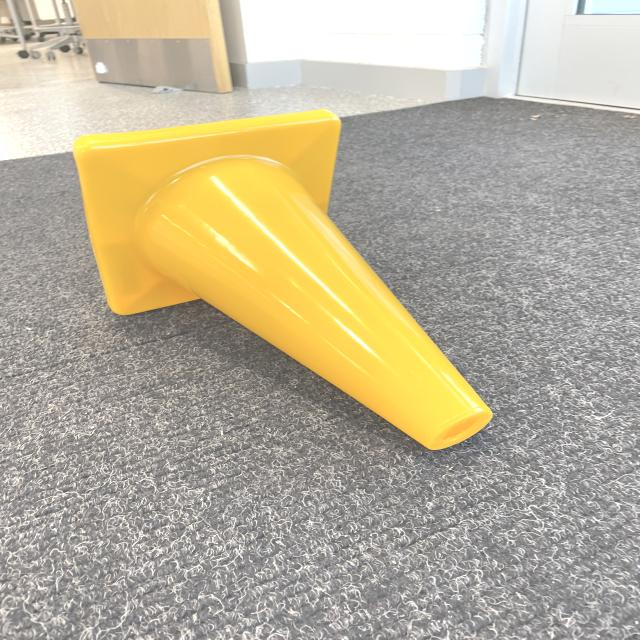frc_cone: (48, 102, 498, 458)
